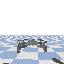drone: (16, 39, 47, 53)
